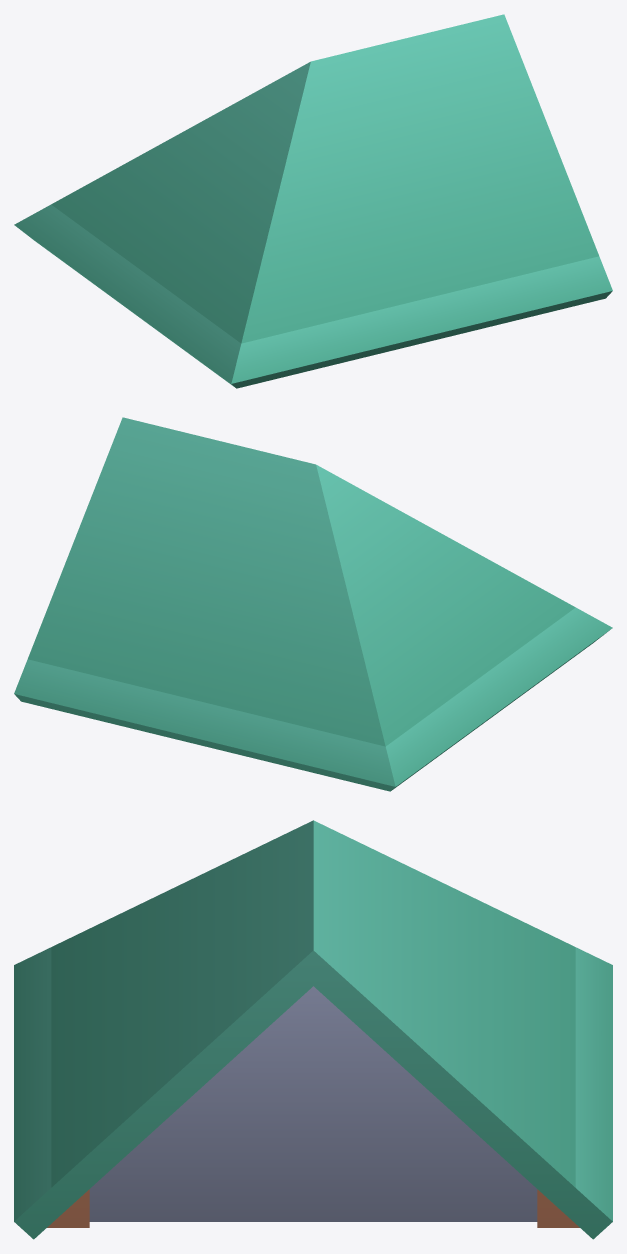
The model's file is roof-gable-end.obj.
3 renders of one model, top to bottom at view 1: azimuth 30°, elevation 25°; view 2: azimuth 150°, elevation 25°; view 3: azimuth 270°, elevation 25°, orthographic. The views are drawn at different scales.
Visible parts, largest first — view 1: roof-gable-end; view 2: roof-gable-end; view 3: roof-gable-end.
Part boxes in pixels (box(x1,y1,x2,y2)): roof-gable-end: box(14, 14, 612, 388); roof-gable-end: box(14, 417, 612, 791); roof-gable-end: box(14, 820, 612, 1239).
Bounding box in the file's own units: 1.09 × 0.5707 × 1.07.
Materials: 1 (1 with a texture image).
